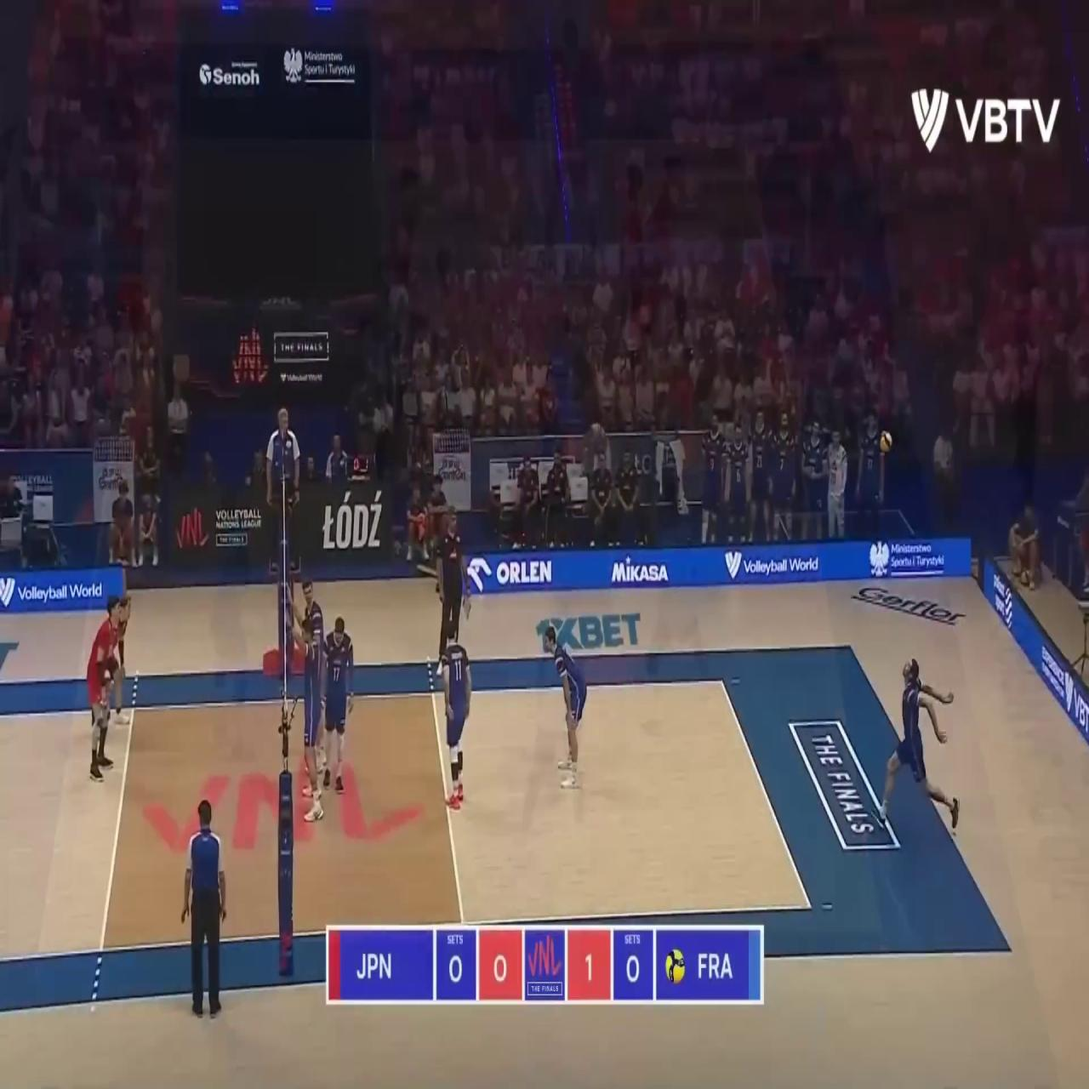ball: (882, 432, 892, 451)
